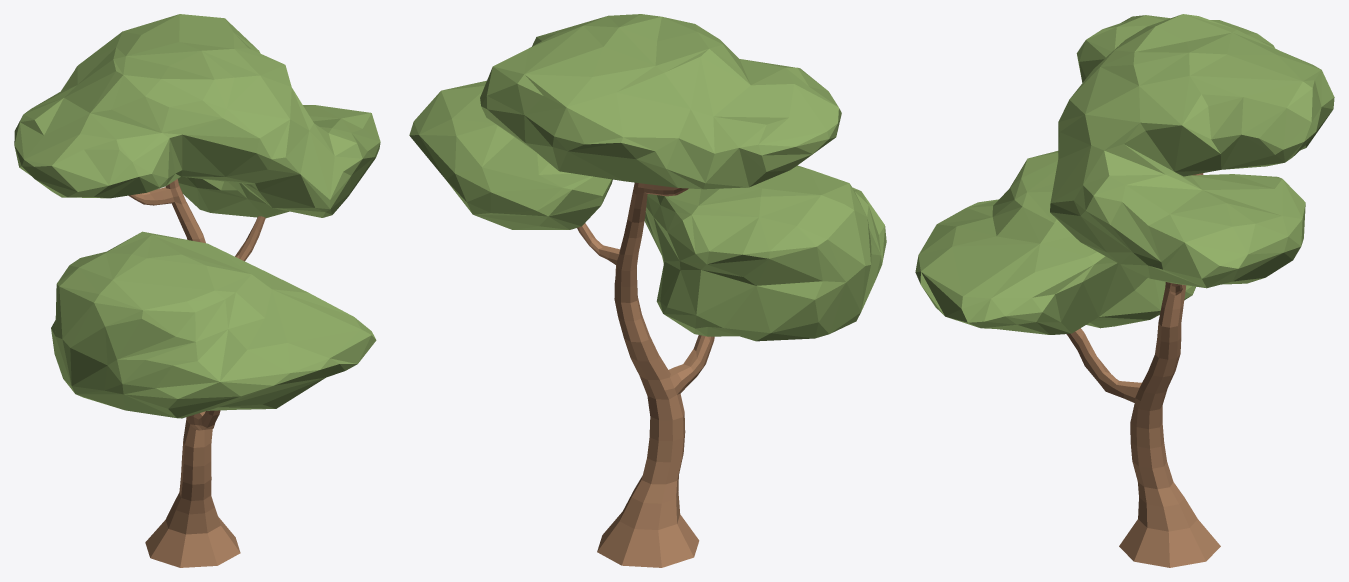
Rendered from FINAL_N_Tree2_maple2.fbx.
3 renders of one model, left to right at view 1: azimuth 30°, elevation 25°; view 2: azimuth 150°, elevation 25°; view 3: azimuth 270°, elevation 25°, orthographic. The views are drawn at different scales.
Visible parts, largest first — view 1: polySurface6; view 2: polySurface6; view 3: polySurface6.
Boxes of the visible parts, bbox=[...] form: polySurface6: bbox=[14, 14, 380, 567]; polySurface6: bbox=[409, 14, 886, 567]; polySurface6: bbox=[915, 14, 1334, 567].
Bounding box in the file's own units: 23.07 × 29.11 × 22.
